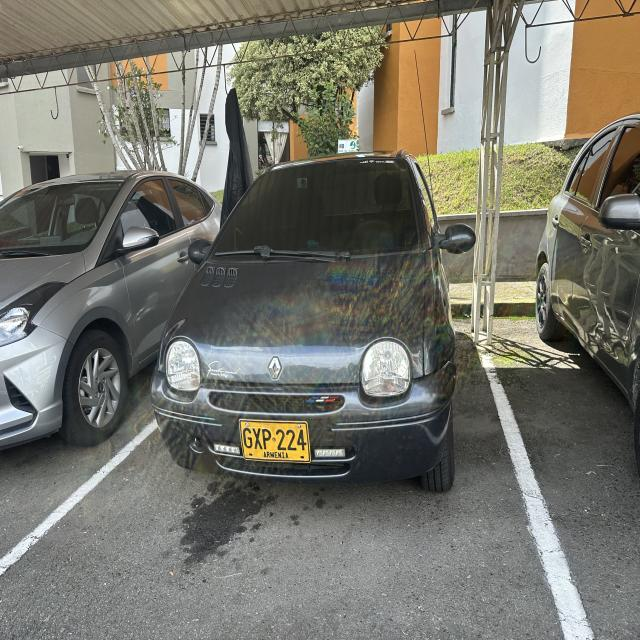number plate: (239, 419, 310, 462)
